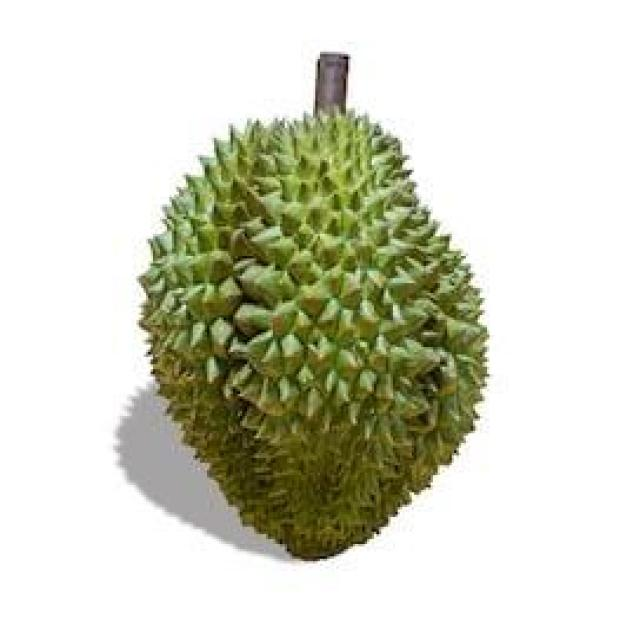immature: (132, 103, 489, 563)
